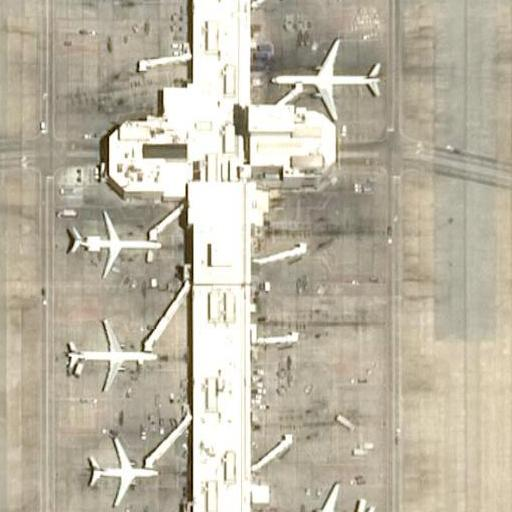Aircraft: (271, 31, 384, 121), (65, 310, 159, 389), (63, 209, 161, 280), (86, 427, 157, 503), (278, 481, 374, 512)
